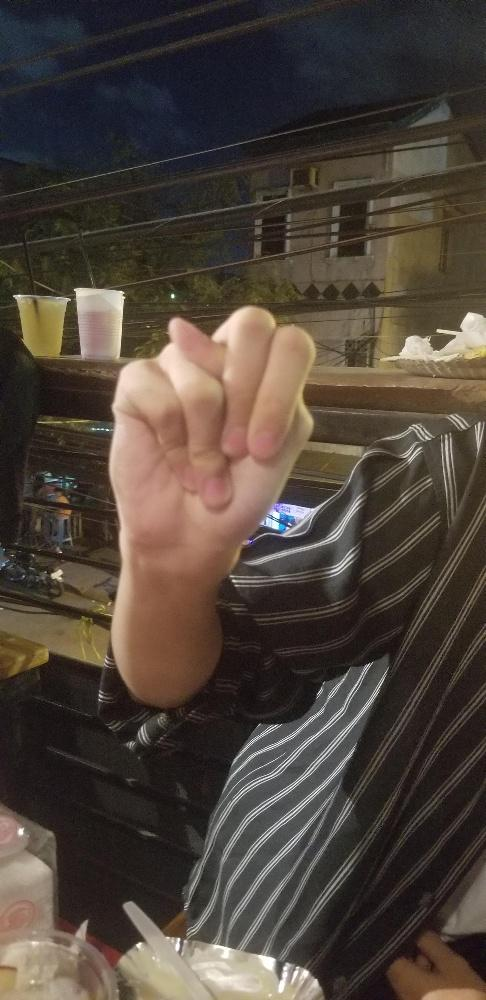n: (105, 304, 318, 557)
